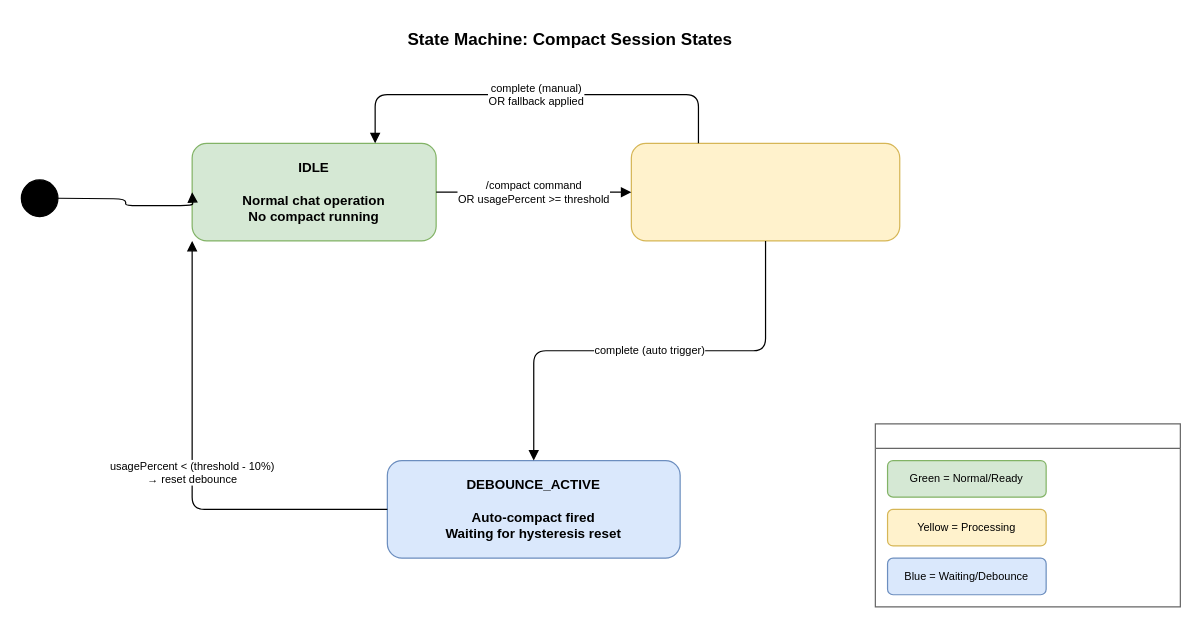
This 1202x628 diagram has some shape labels left out. The box of each missing label's shape, as (x1, y1, x2, y2) in pixels:
COMPACTING Summarizing or truncating isCompacting = true: (630, 142, 900, 241)
Legend: (874, 423, 1180, 607)
